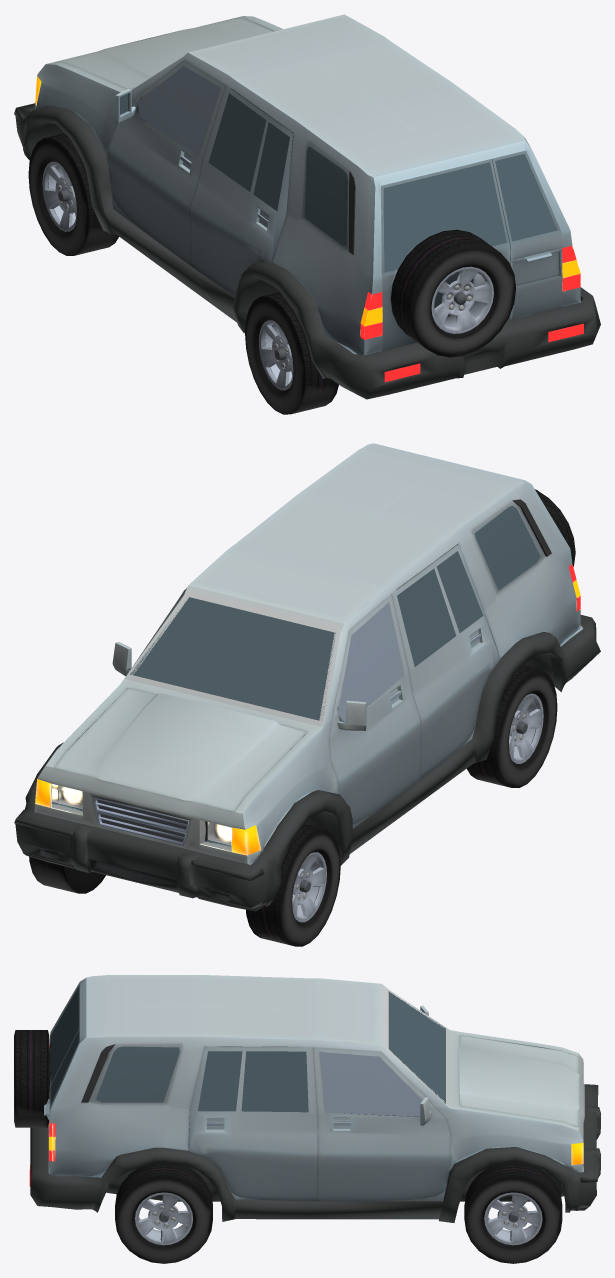
The model's file is TROOPER_IZUSU_VFINAL.fbx.
The picture shows the model from 3 angles, top to bottom: view 1: azimuth 30°, elevation 25°; view 2: azimuth 150°, elevation 25°; view 3: azimuth 270°, elevation 25°; orthographic projection. The views are drawn at different scales.
Parts seen in each view (by area): view 1: CARROCERIA, LLANTA_HIGPOLY.017, LLANTA_HIGPOLY.010, CAPO; view 2: CARROCERIA, CAPO, LLANTA_HIGPOLY.010, LLANTA_HIGPOLY.017, LLANTA_HIGPOLY.013; view 3: CARROCERIA, CAPO, LLANTA_HIGPOLY.013, LLANTA_HIGPOLY.004.
Part boxes in pixels (x1,y1,x2,y2): CARROCERIA: [14, 14, 600, 399]; LLANTA_HIGPOLY.017: [245, 292, 338, 414]; LLANTA_HIGPOLY.010: [28, 133, 118, 255]; CAPO: [55, 18, 273, 89]; CARROCERIA: [14, 443, 600, 911]; CAPO: [54, 688, 307, 811]; LLANTA_HIGPOLY.010: [246, 824, 340, 946]; LLANTA_HIGPOLY.017: [466, 665, 557, 787]; LLANTA_HIGPOLY.013: [29, 856, 105, 893]; CARROCERIA: [14, 975, 600, 1222]; CAPO: [460, 1035, 579, 1127]; LLANTA_HIGPOLY.013: [464, 1162, 562, 1263]; LLANTA_HIGPOLY.004: [115, 1163, 212, 1263].
Size of the model in its own units: 195 by 187 by 478.
